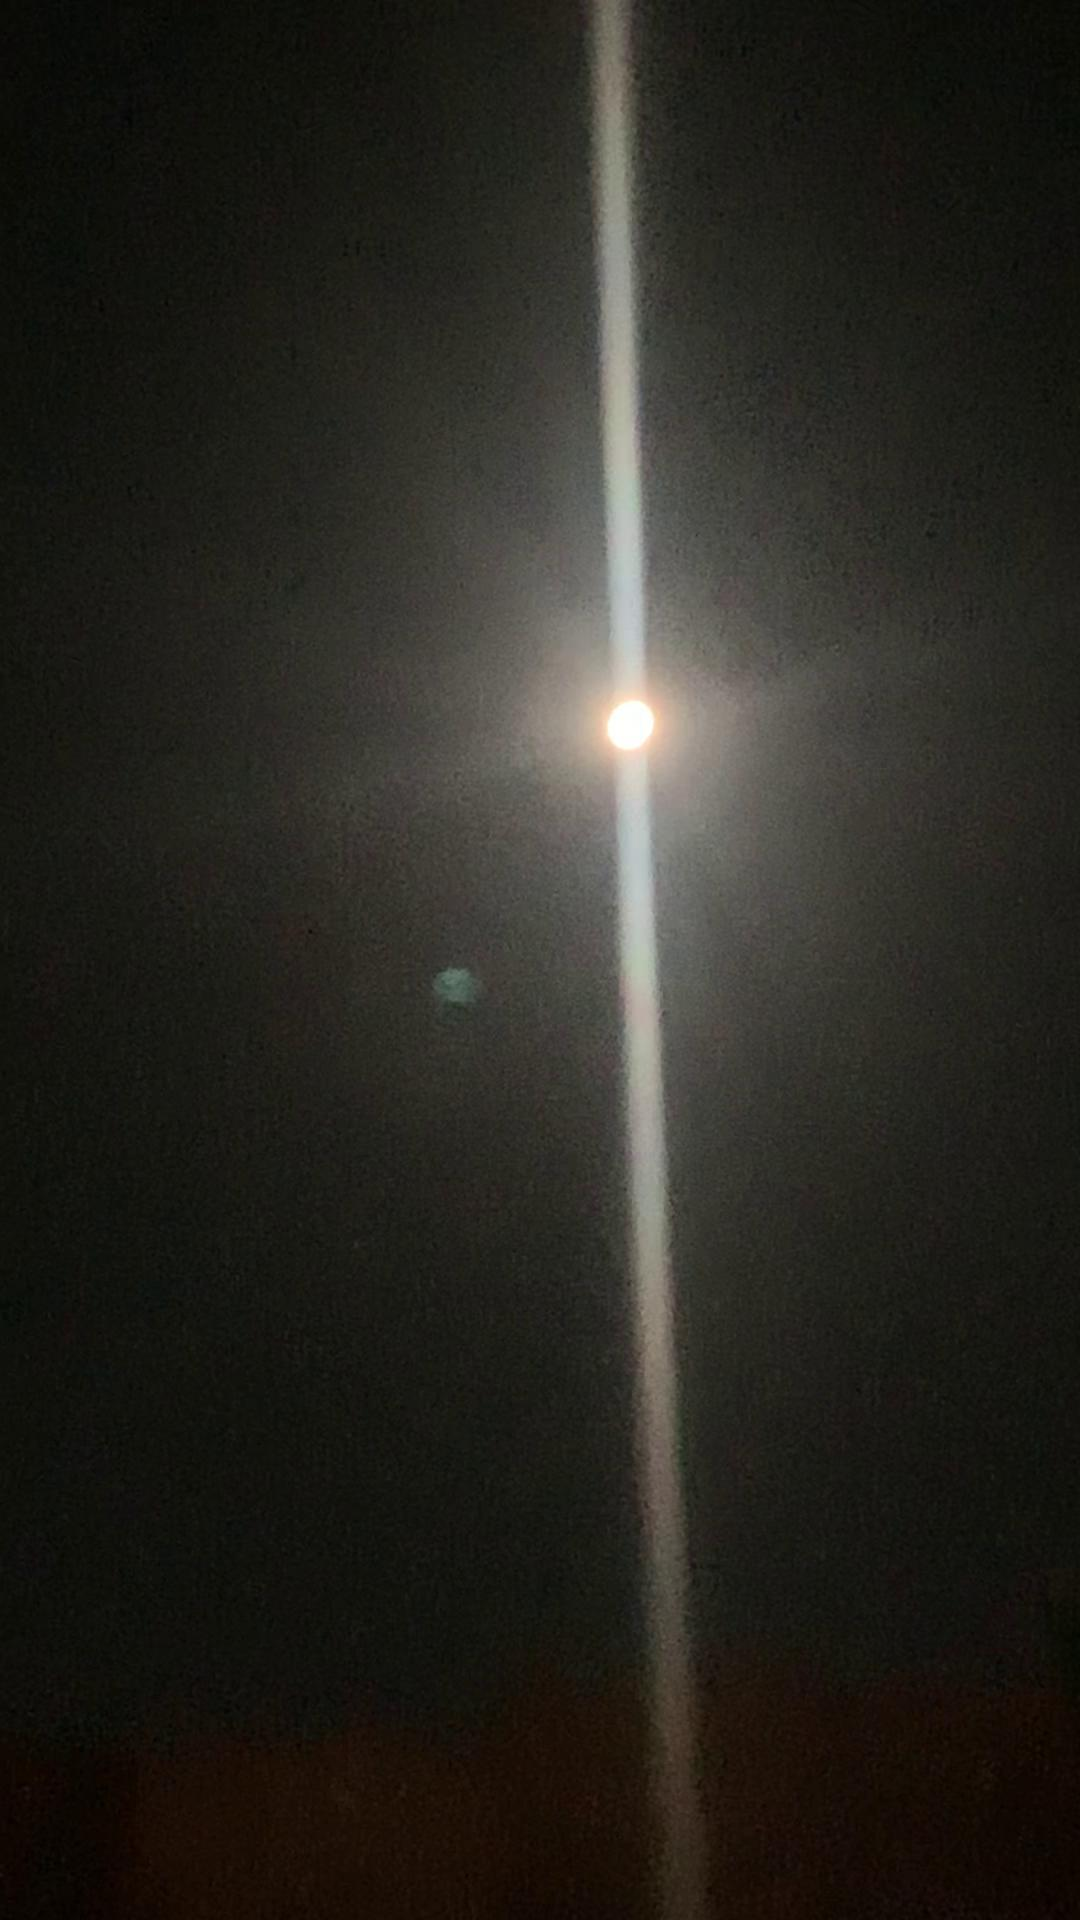moon: (574, 666, 695, 775)
